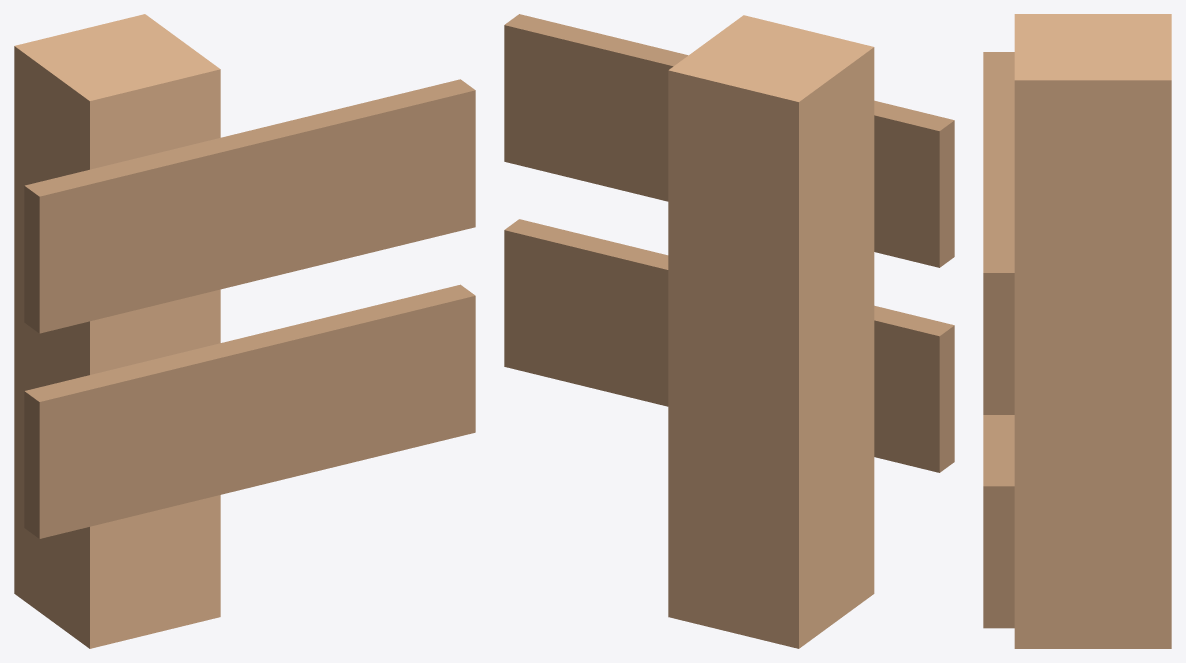
The model's file is FenceLeft.fbx.
3 views of the same model, side by side, from view 1: azimuth 30°, elevation 25°; view 2: azimuth 150°, elevation 25°; view 3: azimuth 270°, elevation 25° (orthographic). The views are drawn at different scales.
Parts seen in each view (by area): view 1: FenceLeft; view 2: FenceLeft; view 3: FenceLeft.
Boxes of the visible parts, x1,y1,x2,y2 form: FenceLeft: (14, 14, 475, 648); FenceLeft: (504, 14, 954, 648); FenceLeft: (983, 14, 1171, 648).
Bounding box in the file's own units: 100 × 120 × 36.
